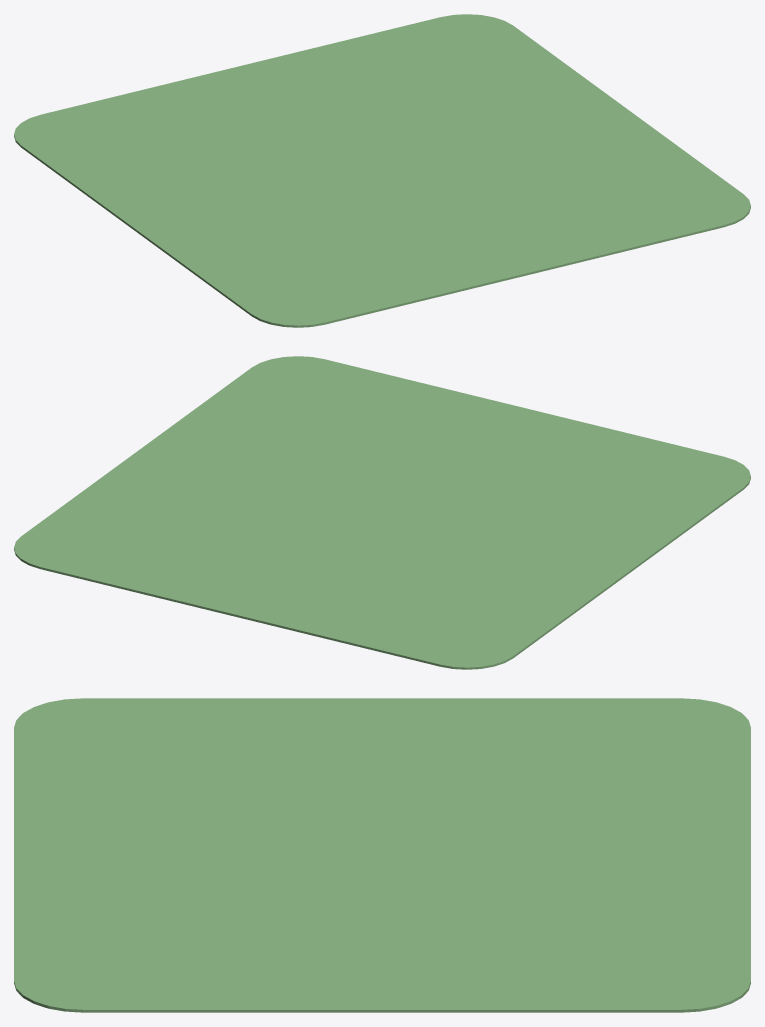
3 renders of one model, top to bottom at view 1: azimuth 30°, elevation 25°; view 2: azimuth 150°, elevation 25°; view 3: azimuth 270°, elevation 25°, orthographic. The views are drawn at different scales.
Parts seen in each view (by area): view 1: COM-02 Floor Surface; view 2: COM-02 Floor Surface; view 3: COM-02 Floor Surface.
Boxes of the visible parts, box(x1,y1,x2,y2) form: COM-02 Floor Surface: box(14, 14, 750, 327); COM-02 Floor Surface: box(14, 356, 750, 669); COM-02 Floor Surface: box(14, 698, 750, 1012).
Bounding box in the file's own units: 1.92 × 0.008 × 1.92.
1 material, 1 textured.
